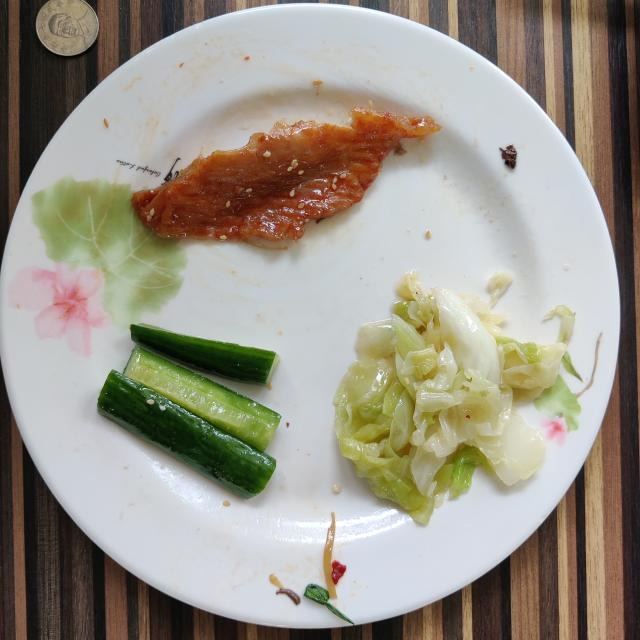Kabayaki sea bream fillet: (132, 108, 440, 241)
cabbage: (334, 276, 568, 524)
coin: (36, 0, 99, 56)
cucumber: (98, 348, 281, 499), (131, 324, 278, 384)
